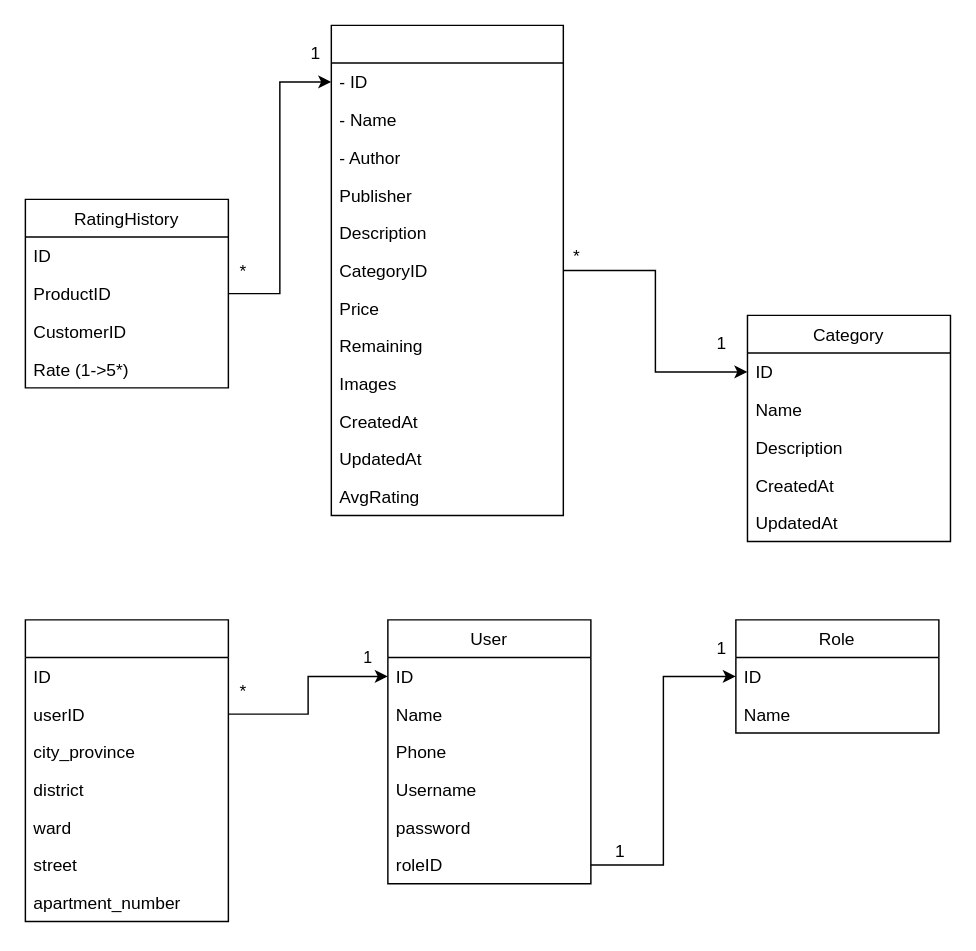
This 976x951 diagram has some shape labels left out. The box of each missing label's shape, as (x1, y1, x2, y2) in pixels:
Address: (24, 618, 228, 921)
Product: (330, 24, 563, 515)
